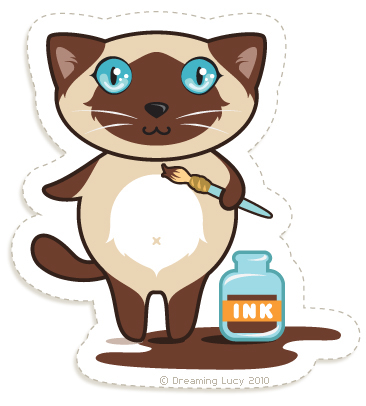cat: (19, 4, 267, 353)
